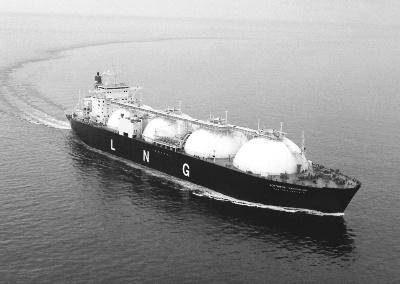Cargoship: (64, 66, 362, 217)
